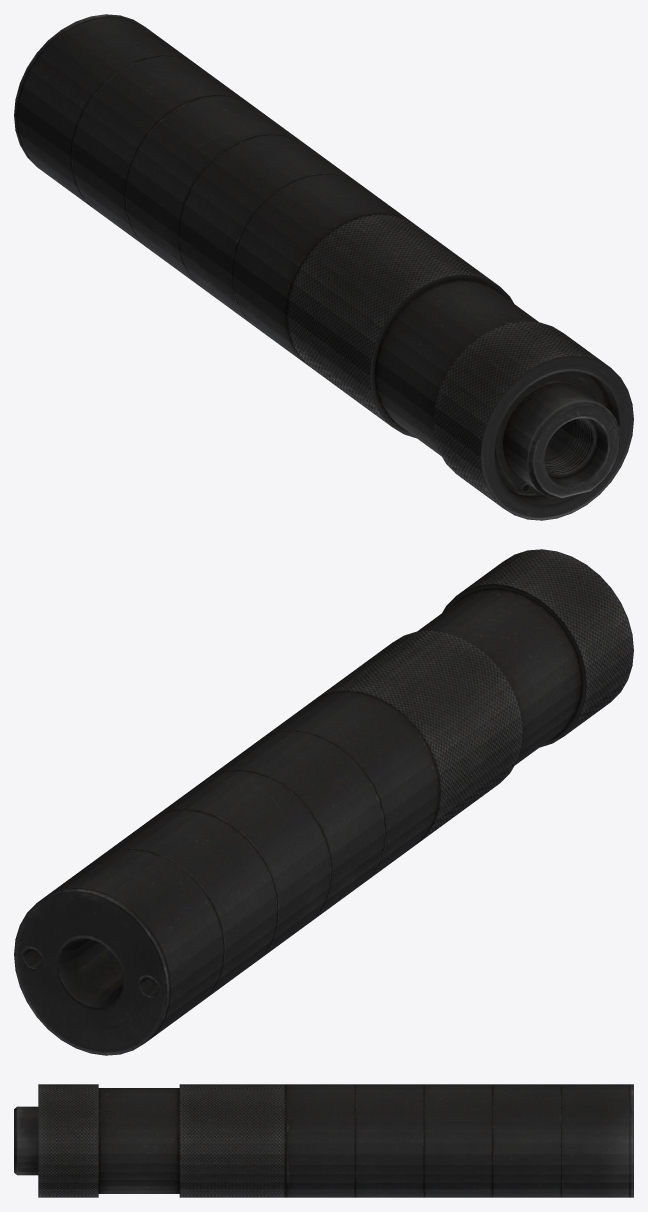
3 renders of one model, top to bottom at view 1: azimuth 30°, elevation 25°; view 2: azimuth 150°, elevation 25°; view 3: azimuth 270°, elevation 25°, orthographic. The views are drawn at different scales.
Parts seen in each view (by area): view 1: TW_602a97060ddce744014caf6f_PZ_Import; view 2: TW_602a97060ddce744014caf6f_PZ_Import; view 3: TW_602a97060ddce744014caf6f_PZ_Import.
Boxes of the visible parts, <box> form: TW_602a97060ddce744014caf6f_PZ_Import: <box>14,14,633,520</box>; TW_602a97060ddce744014caf6f_PZ_Import: <box>14,549,633,1055</box>; TW_602a97060ddce744014caf6f_PZ_Import: <box>14,1084,633,1197</box>.
Size of the model in its own units: 0.0205 by 0.1125 by 0.0205.
Materials: 1 (1 with a texture image).
